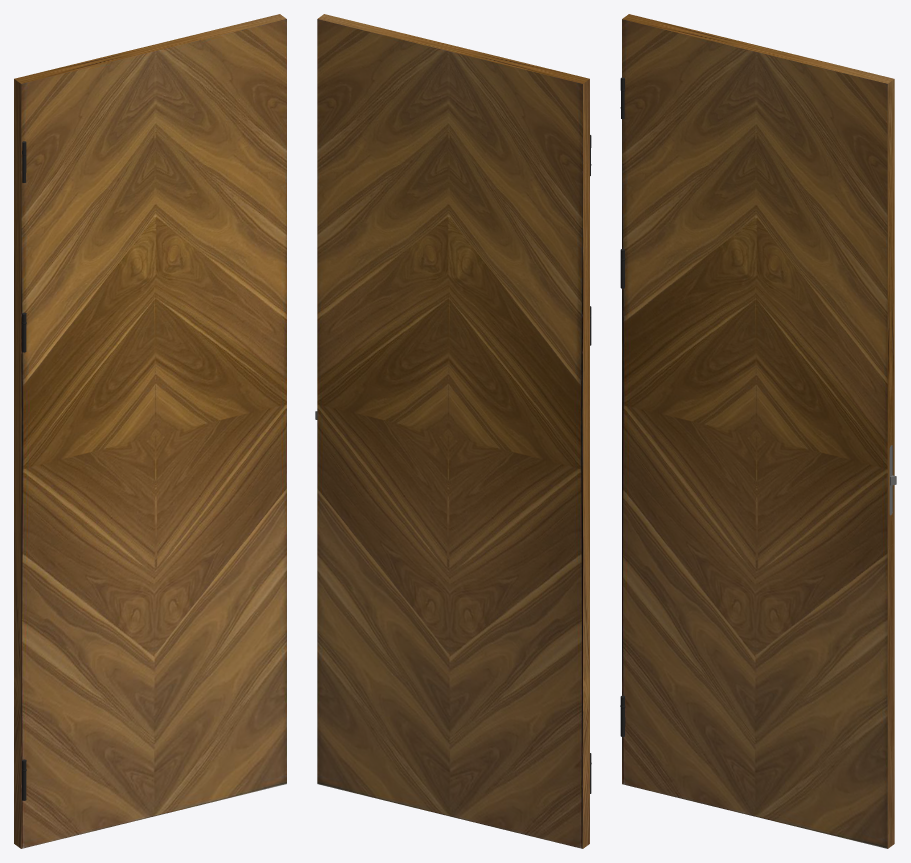
File: 48_ROYAL_Door.glb
The picture shows the model from 3 angles, left to right: view 1: azimuth 30°, elevation 25°; view 2: azimuth 150°, elevation 25°; view 3: azimuth 330°, elevation 25°; orthographic projection.
Visible parts, largest first — view 1: 48_ROYAL_Door; view 2: 48_ROYAL_Door; view 3: 48_ROYAL_Door.
Boxes of the visible parts, box(x1,y1,x2,y2) form: 48_ROYAL_Door: box(14, 14, 286, 848); 48_ROYAL_Door: box(315, 14, 591, 848); 48_ROYAL_Door: box(620, 14, 896, 848).
Bounding box in the file's own units: 0.8116 × 2.2 × 0.0485.
3 materials, 1 textured.
